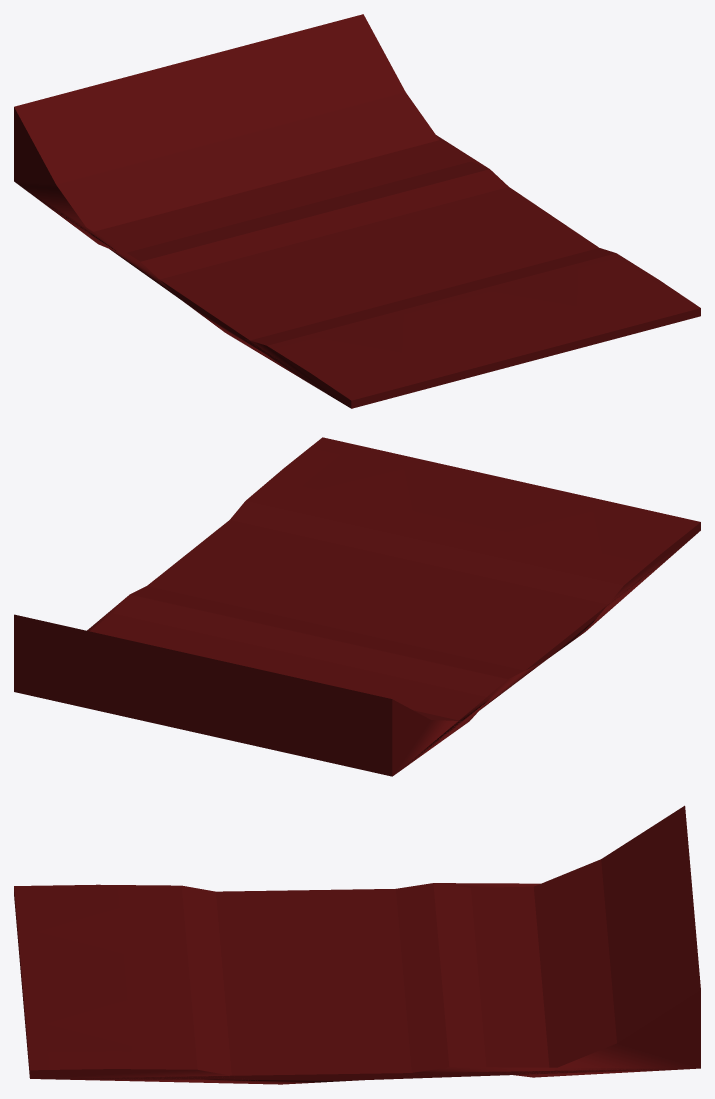
The model's file is Ramp_Left__1_.fbx.
3 renders of one model, top to bottom at view 1: azimuth 30°, elevation 25°; view 2: azimuth 150°, elevation 25°; view 3: azimuth 270°, elevation 25°, orthographic. The views are drawn at different scales.
Parts seen in each view (by area): view 1: Ramp_Left__1_; view 2: Ramp_Left__1_; view 3: Ramp_Left__1_.
Boxes of the visible parts, left/top/right/bottom form: Ramp_Left__1_: left=14, top=14, right=700, bottom=408; Ramp_Left__1_: left=14, top=437, right=700, bottom=776; Ramp_Left__1_: left=14, top=805, right=700, bottom=1084.
Bounding box in the file's own units: 160 × 33.91 × 239.
